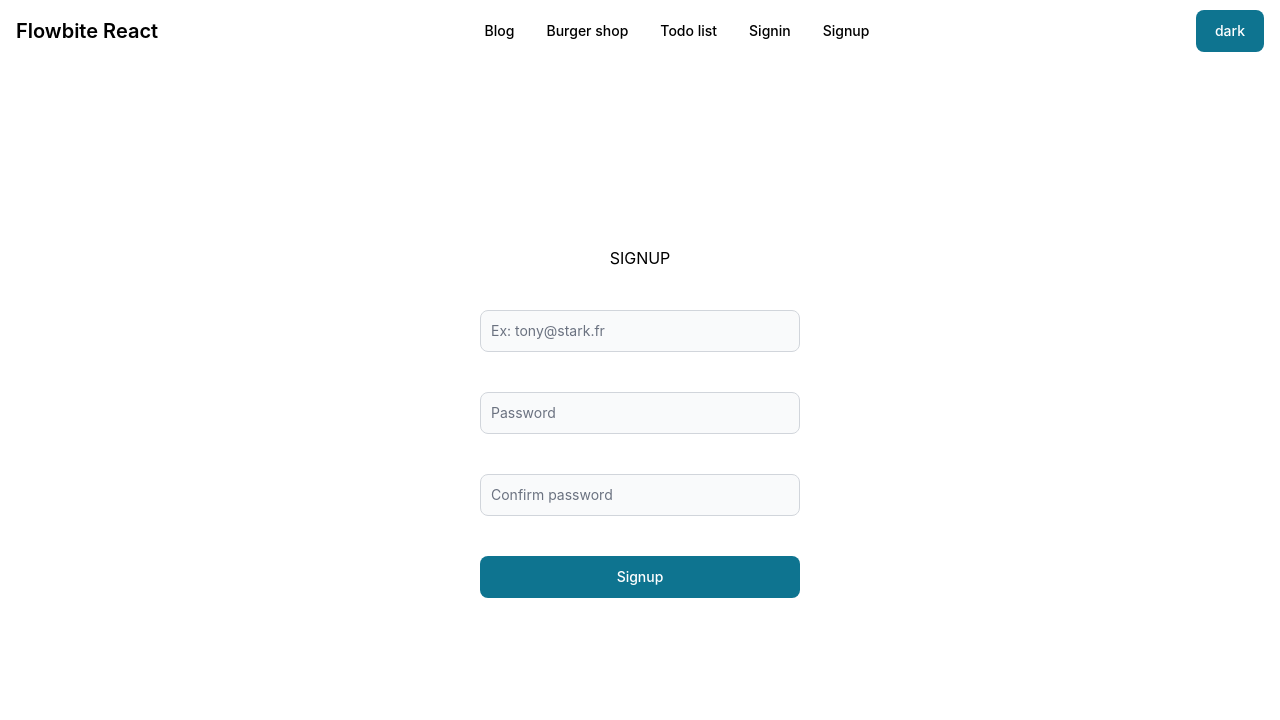
Testing signup to todo › Should display Alert
Type "thor@marvel.com" into the field named "email" at (640,331), box [480,310,800,352]
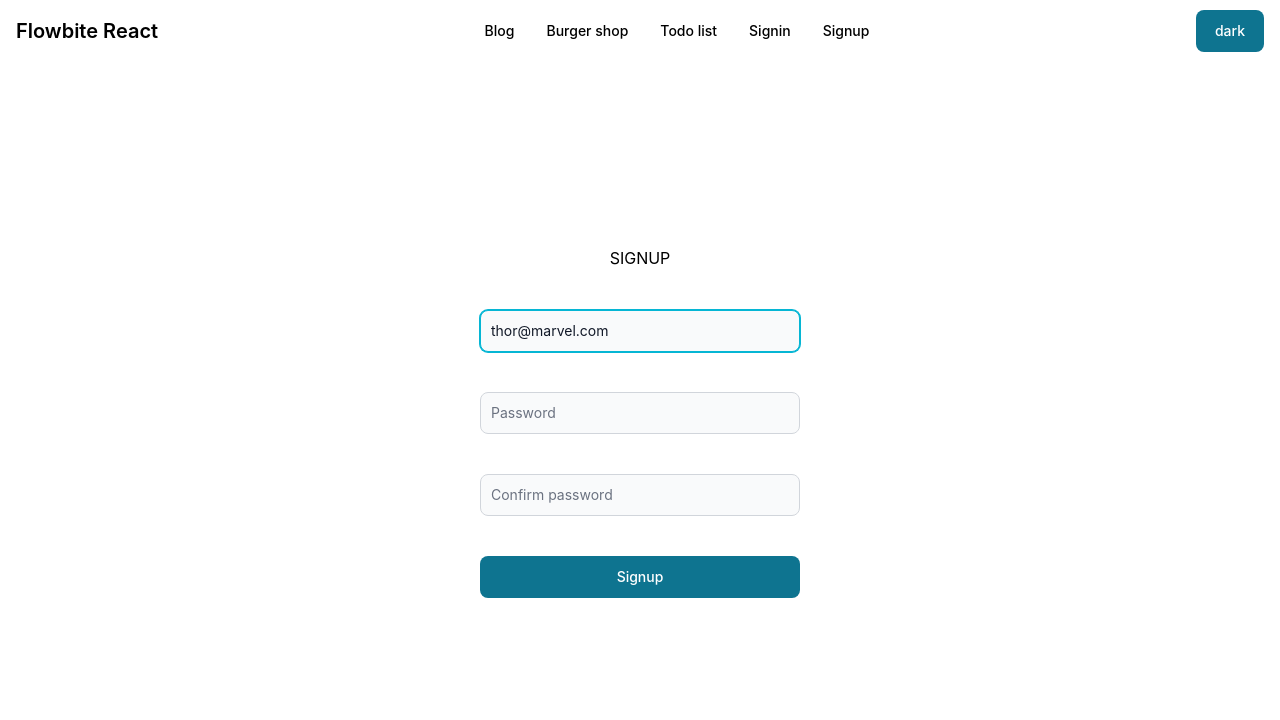
Type "12345678efbebezb" into the password field named "password" at (640,413), box [480,392,800,434]
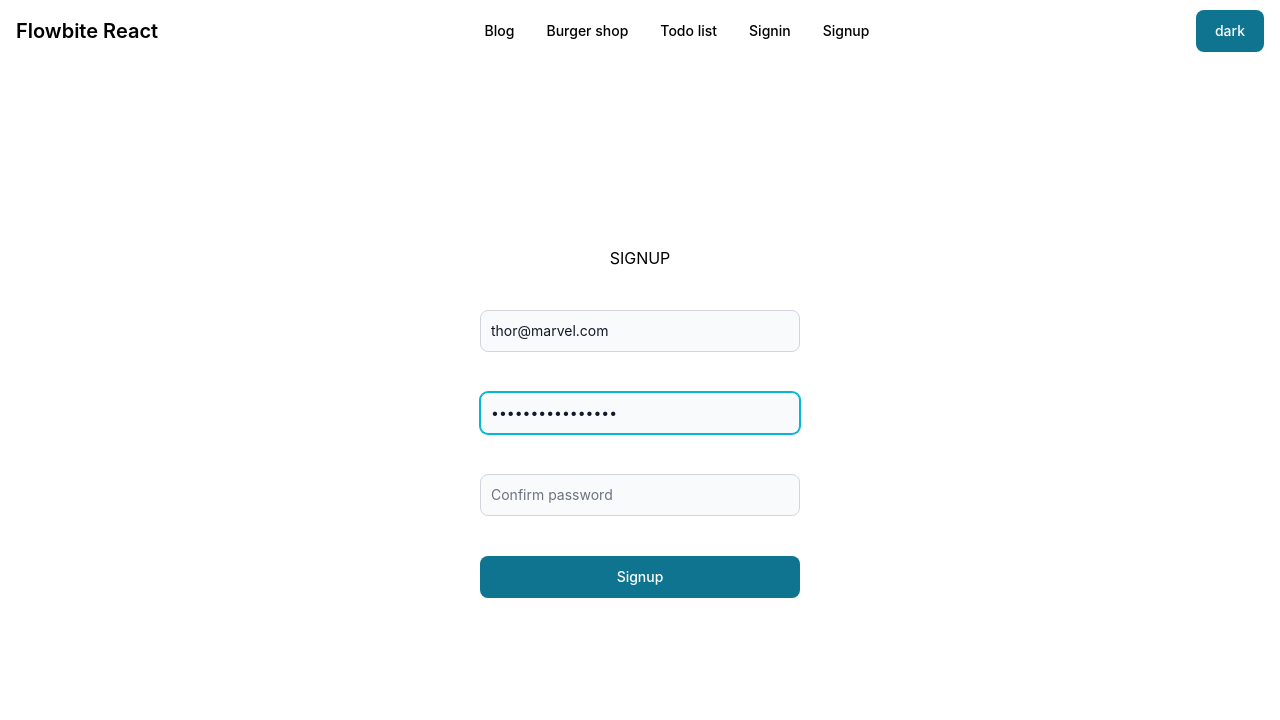
Type "12345678brbehzeergeg" into the password field named "confirm-password" at (640,495), box [480,474,800,516]
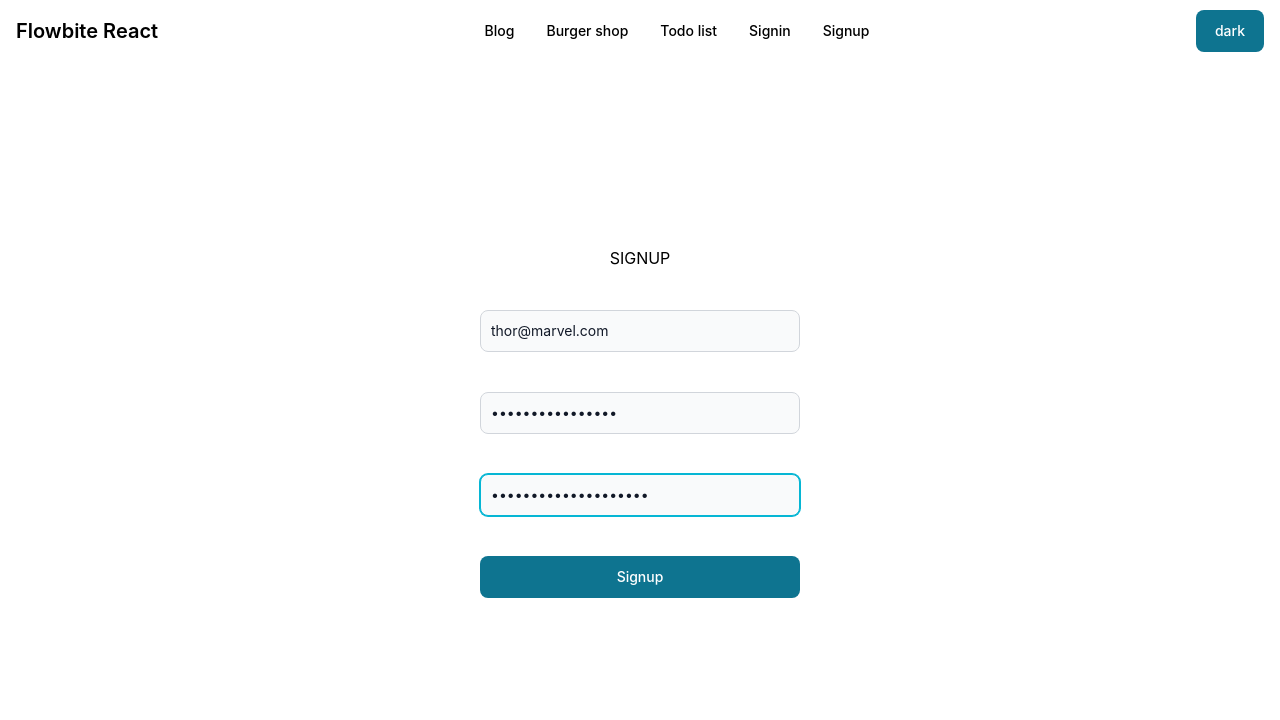
Click the button "Signup" at (640,577), box [480,556,800,598]
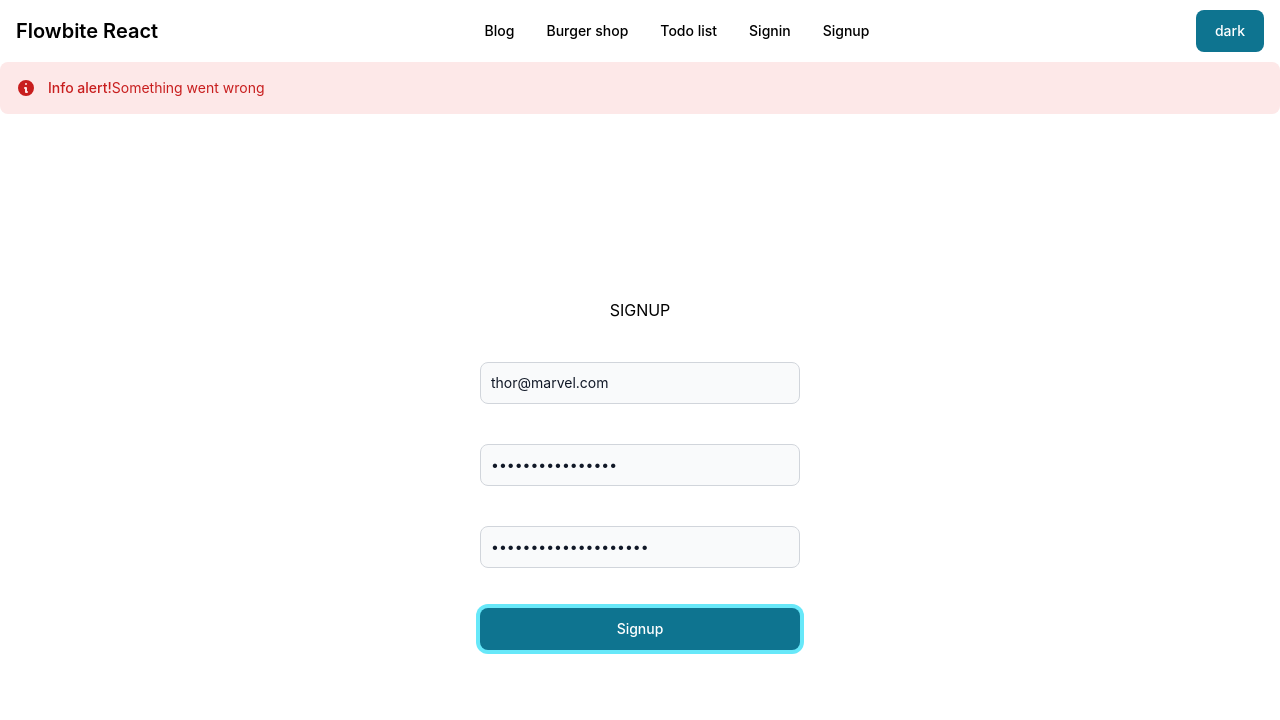
expect the message "Info alert!Something went wrong" is shown: met, box [0,62,1279,114]
